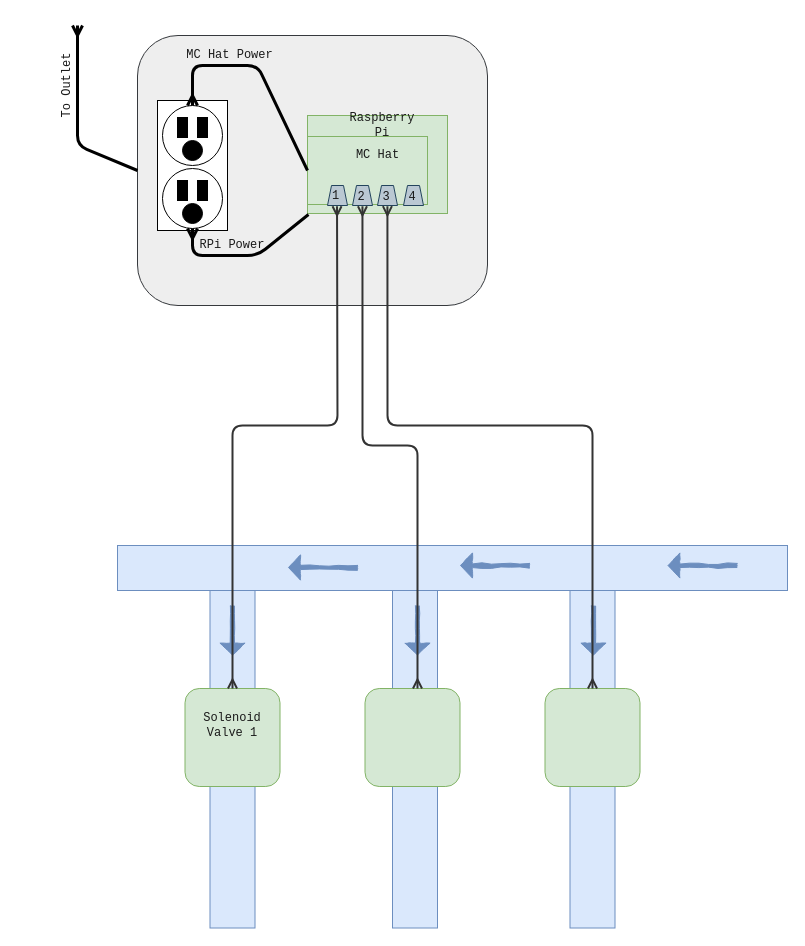
Some shapes in this 805 by 946 pixel diagram are drawn without their labels. The shapes that lost their labels are listed below. From the top down, each one's centre as x and y in pixels, then its label:
the point at 412,737: Solenoid Valve 2
the point at 592,737: Solenoid Valve 3
